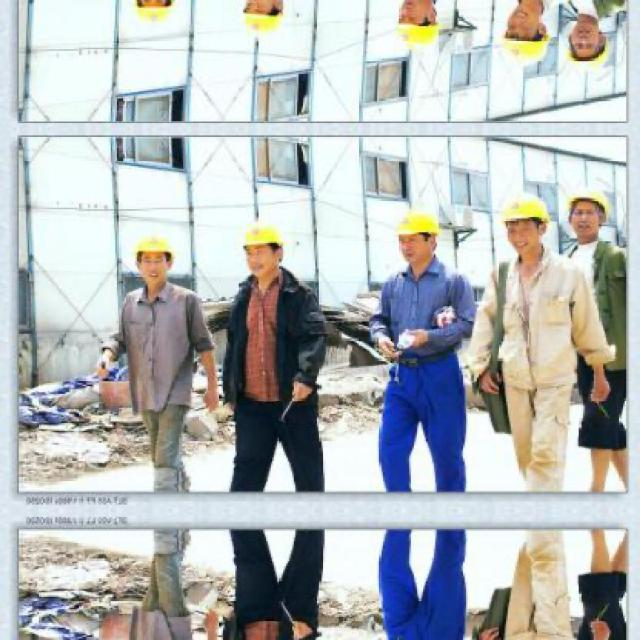helmet: (494, 186, 555, 252), (494, 5, 555, 70), (237, 211, 291, 278), (392, 202, 443, 268), (563, 180, 614, 242), (563, 14, 614, 75), (393, 0, 445, 55), (132, 228, 182, 284), (237, 0, 292, 46), (130, 0, 182, 29)
